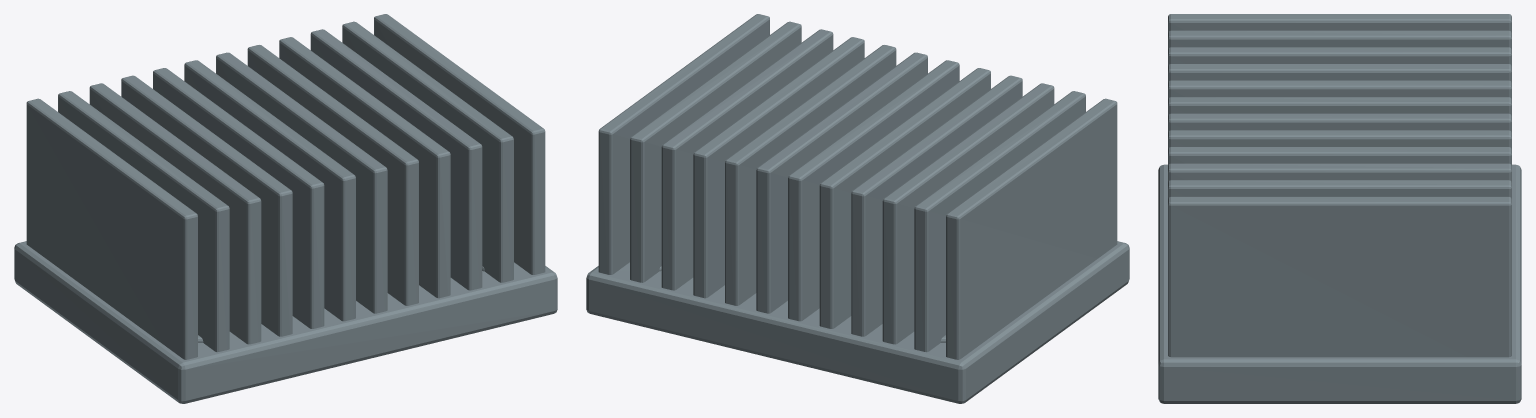
Rendered from heatsink.glb.
3 views of the same model, side by side, from view 1: azimuth 30°, elevation 25°; view 2: azimuth 150°, elevation 25°; view 3: azimuth 270°, elevation 25° (orthographic). The views are drawn at different scales.
Parts seen in each view (by area): view 1: heatsink; view 2: heatsink; view 3: heatsink.
Boxes of the visible parts, bbox=[...] form: heatsink: bbox=[14, 14, 557, 403]; heatsink: bbox=[586, 14, 1129, 403]; heatsink: bbox=[1158, 14, 1521, 403].
Size of the model in its own units: 0.48 by 0.223 by 0.37.
